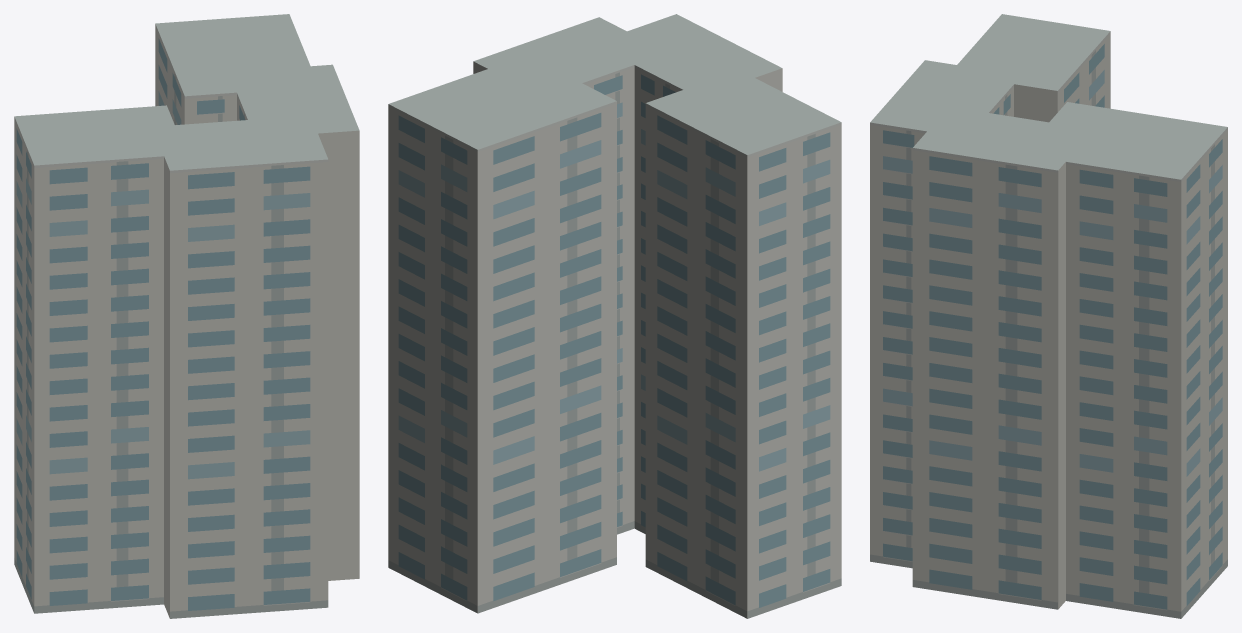
Rendered from residential-b9462974-dece-4c45-87af-dacb95256c68.glb.
The picture shows the model from 3 angles, left to right: view 1: azimuth 30°, elevation 25°; view 2: azimuth 150°, elevation 25°; view 3: azimuth 270°, elevation 25°; orthographic projection. The views are drawn at different scales.
Visible parts, largest first — view 1: residential-b9462974-dece-4c45-87af-dacb95256c68.tmp; view 2: residential-b9462974-dece-4c45-87af-dacb95256c68.tmp; view 3: residential-b9462974-dece-4c45-87af-dacb95256c68.tmp.
Boxes of the visible parts, bbox=[...] form: residential-b9462974-dece-4c45-87af-dacb95256c68.tmp: bbox=[14, 14, 359, 618]; residential-b9462974-dece-4c45-87af-dacb95256c68.tmp: bbox=[388, 14, 841, 618]; residential-b9462974-dece-4c45-87af-dacb95256c68.tmp: bbox=[870, 14, 1227, 618].
Size of the model in its own units: 38.05 by 47 by 34.72.
